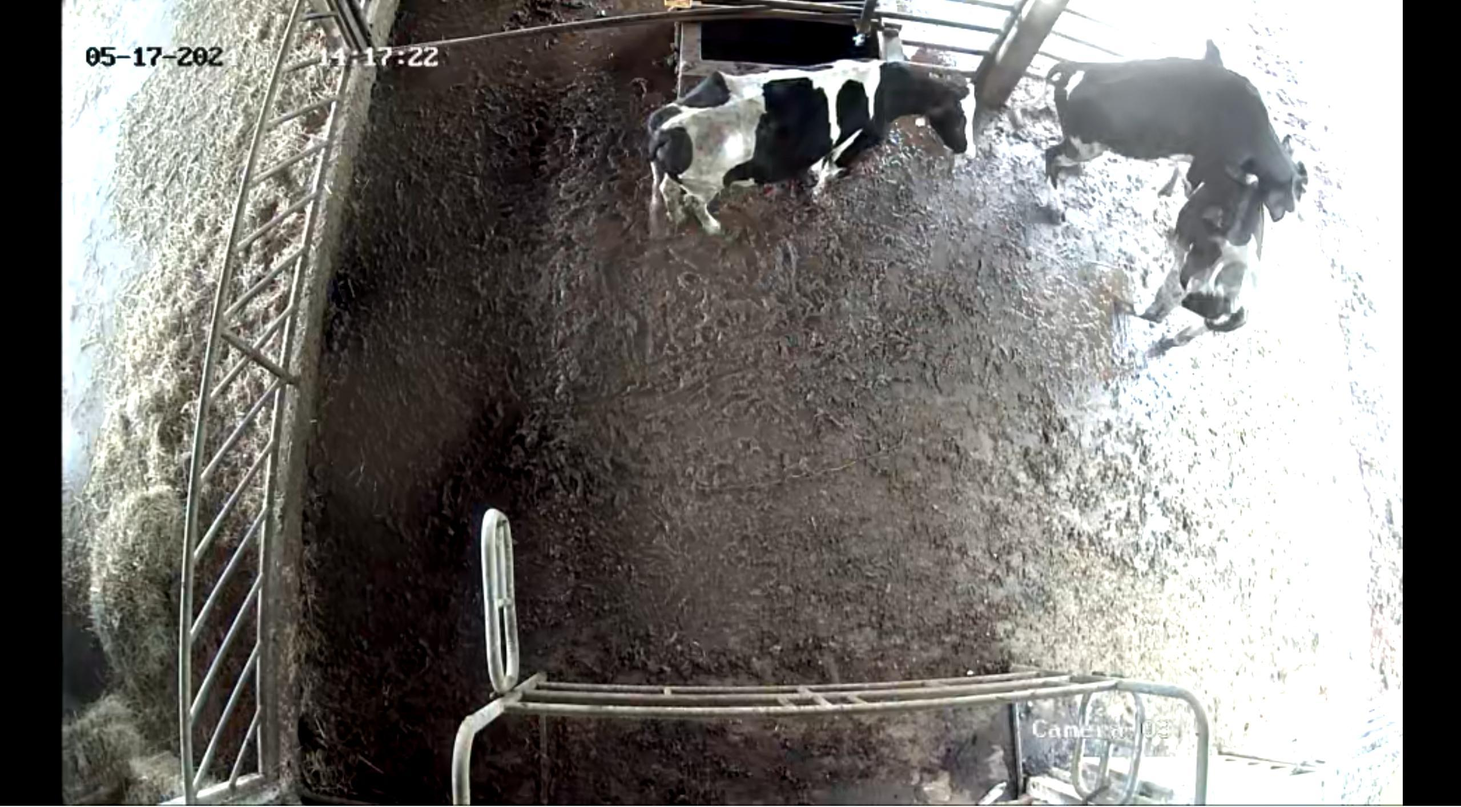ride: (1025, 46, 1320, 229)
stand: (626, 54, 1006, 248), (1118, 119, 1285, 373)
